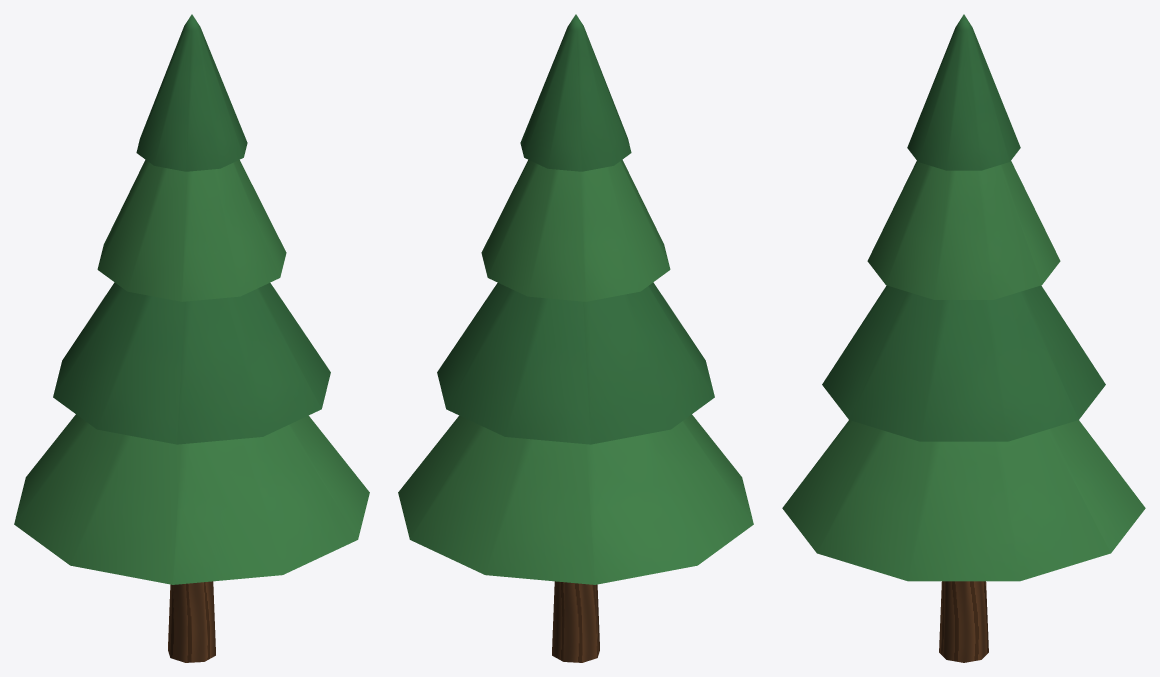
Rendered from env_pine.glb.
The picture shows the model from 3 angles, left to right: view 1: azimuth 30°, elevation 25°; view 2: azimuth 150°, elevation 25°; view 3: azimuth 270°, elevation 25°; orthographic projection.
Visible parts, largest first — view 1: env_pine; view 2: env_pine; view 3: env_pine.
Part boxes in pixels (x1=…): env_pine: x1=14, y1=14, x2=369, y2=662; env_pine: x1=398, y1=14, x2=753, y2=662; env_pine: x1=782, y1=14, x2=1145, y2=662.
Bounding box in the file's own units: 3.04 × 6.2 × 3.2.
1 material, 1 textured.
